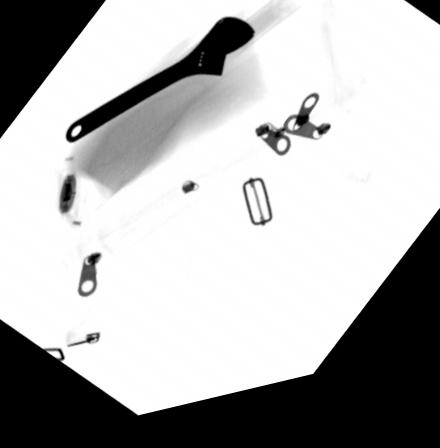Wrench: (65, 25, 256, 148)
